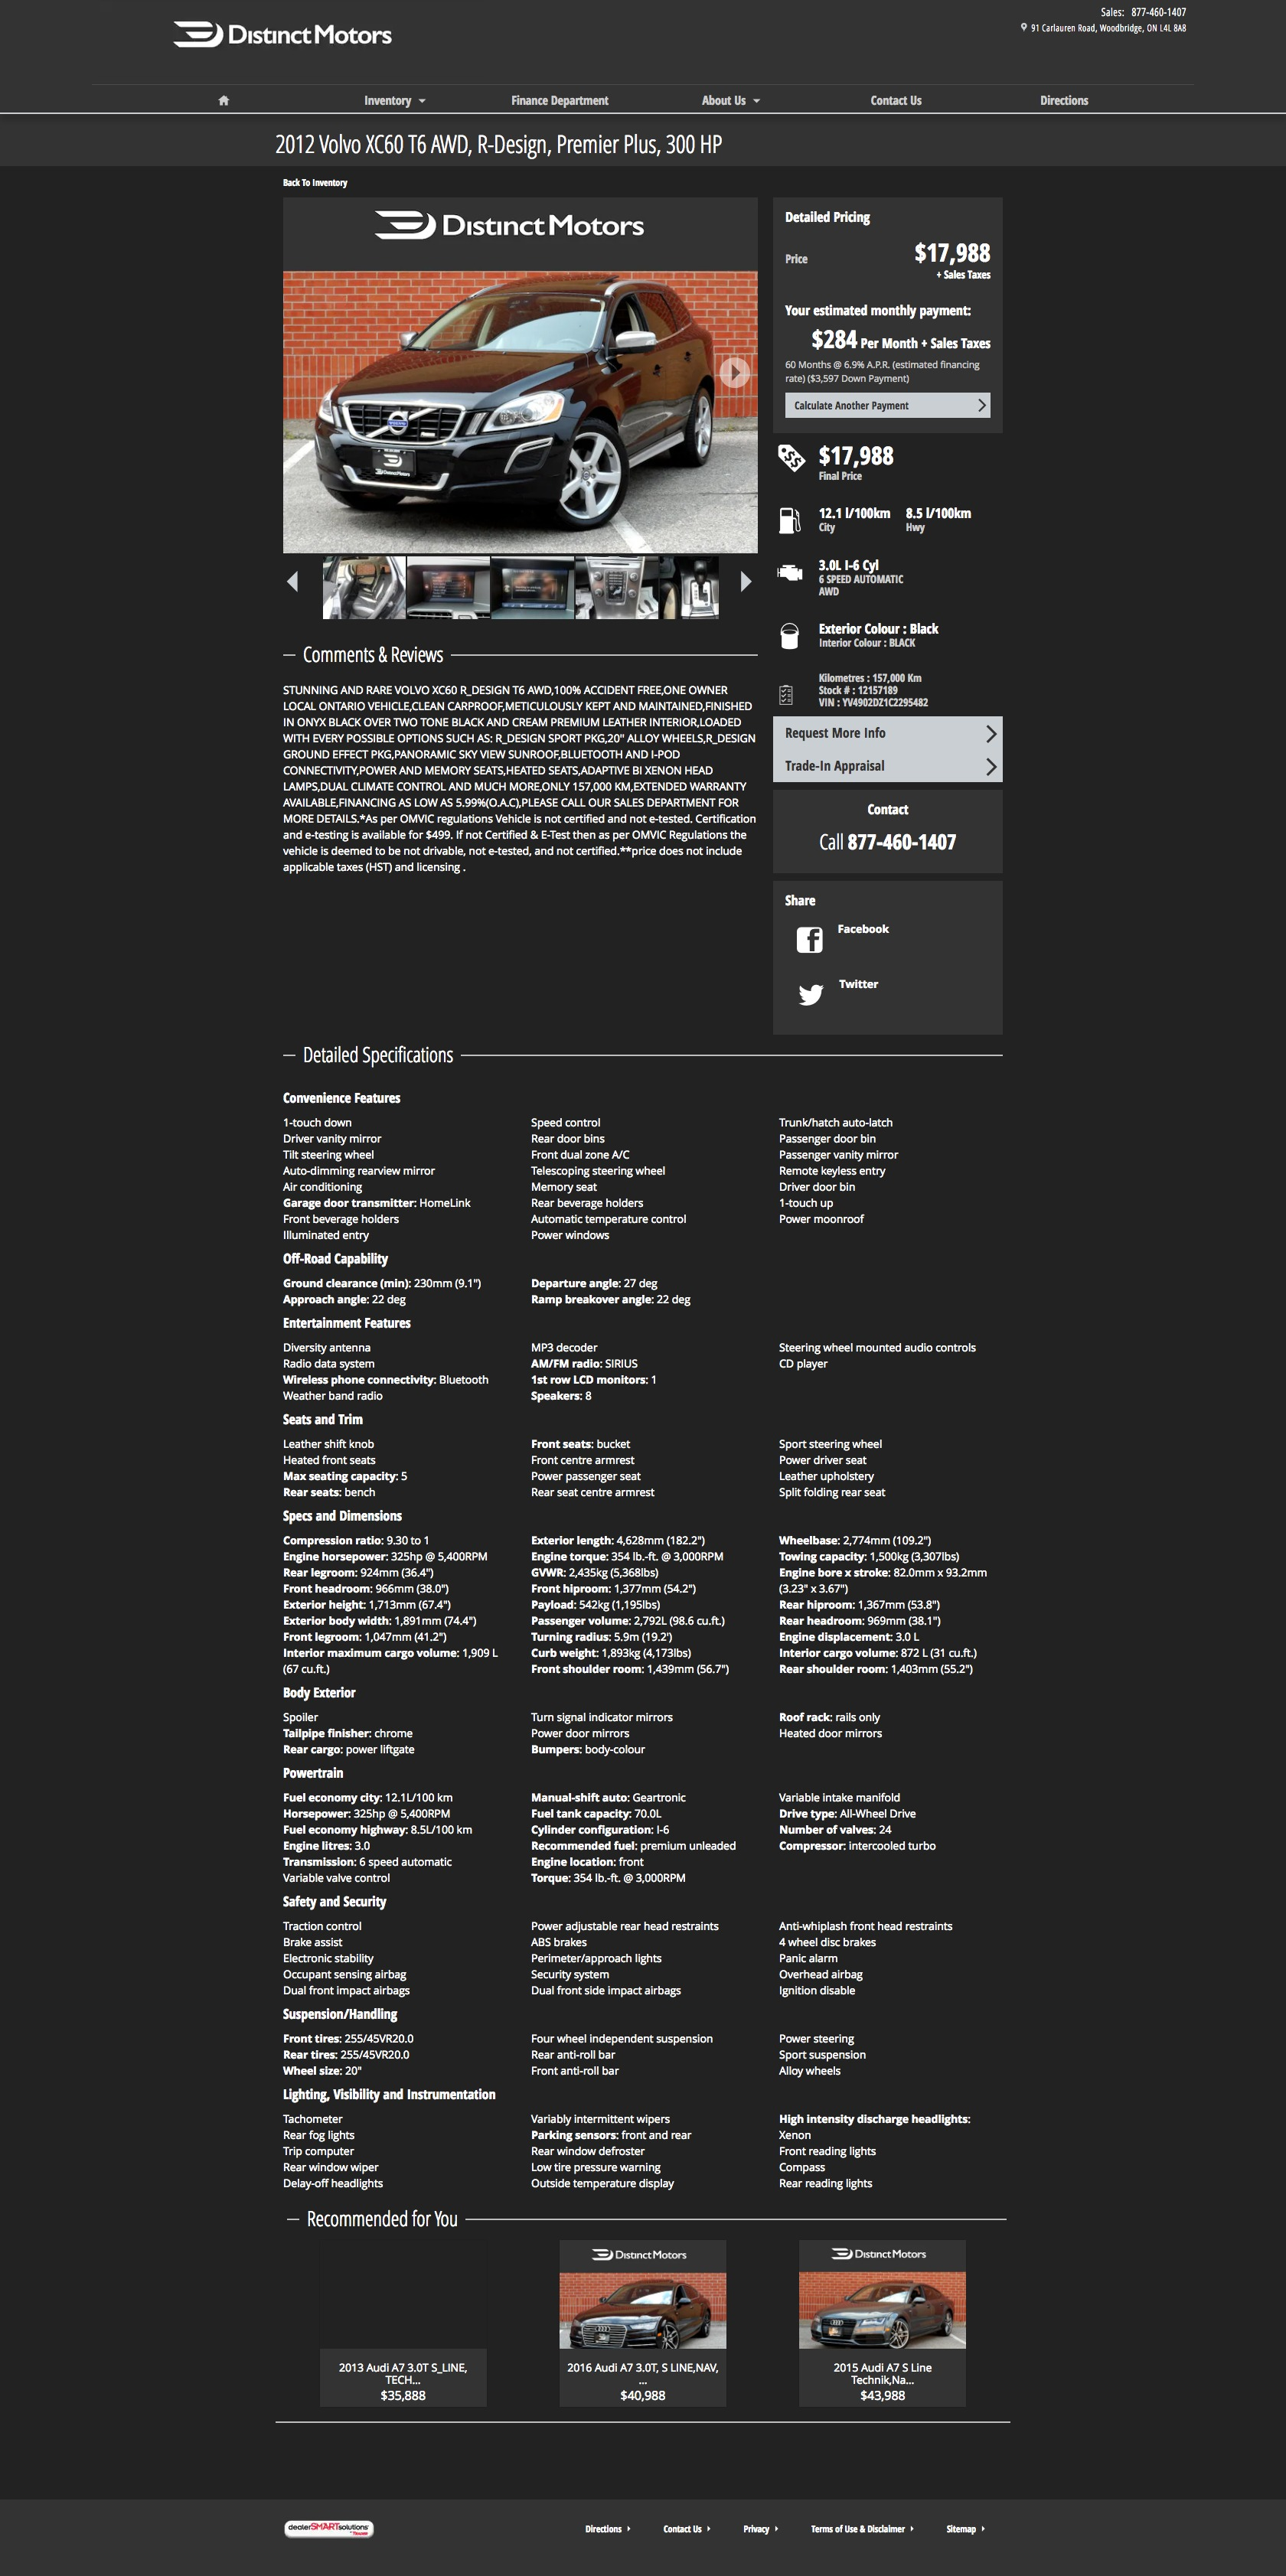car: (739, 572, 754, 593)
